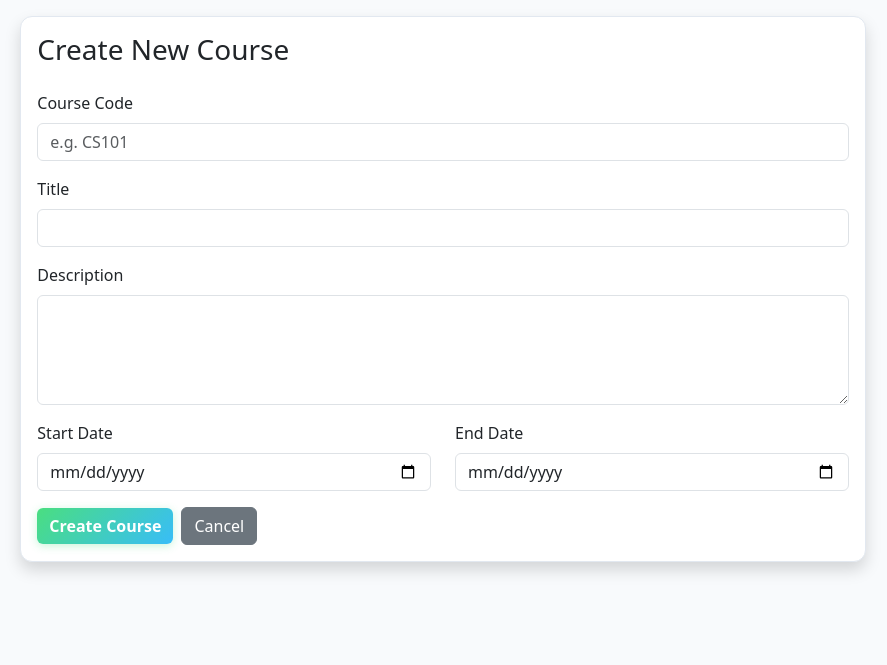
CourseCreate › shows error on failure
Type "CS101" into the field with placeholder "e.g. CS101" at [443, 142], box [37,123,849,161]
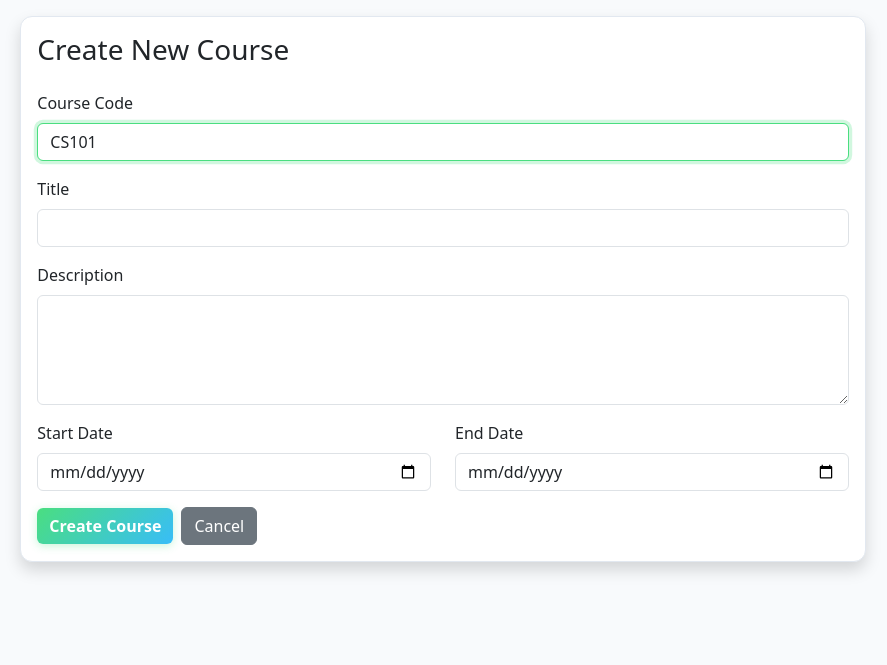
Type "Dup" into the field below "Title" at [443, 228], box [37,209,849,247]
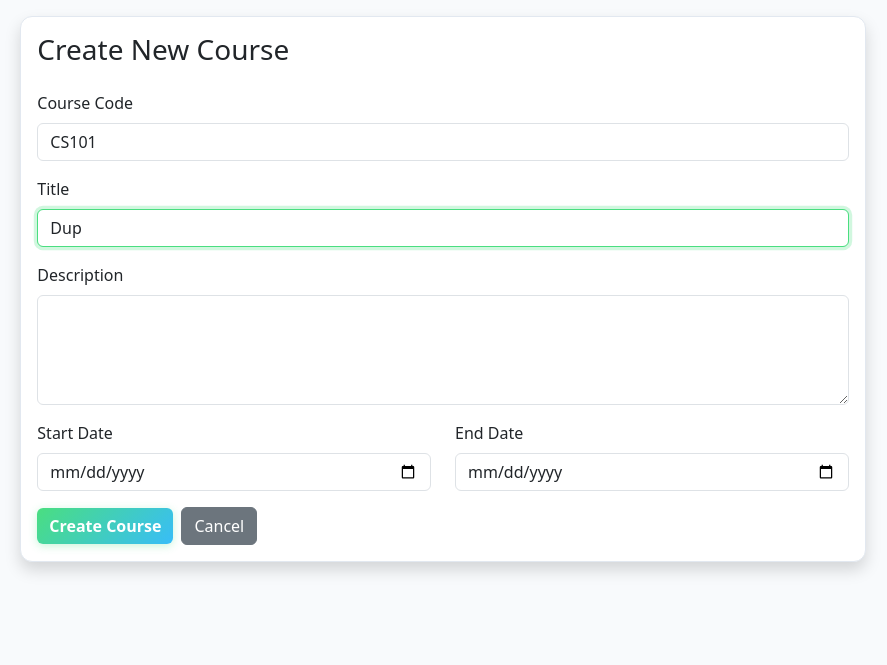
Type "Desc" into the text box at [443, 350], box [37,295,849,405]
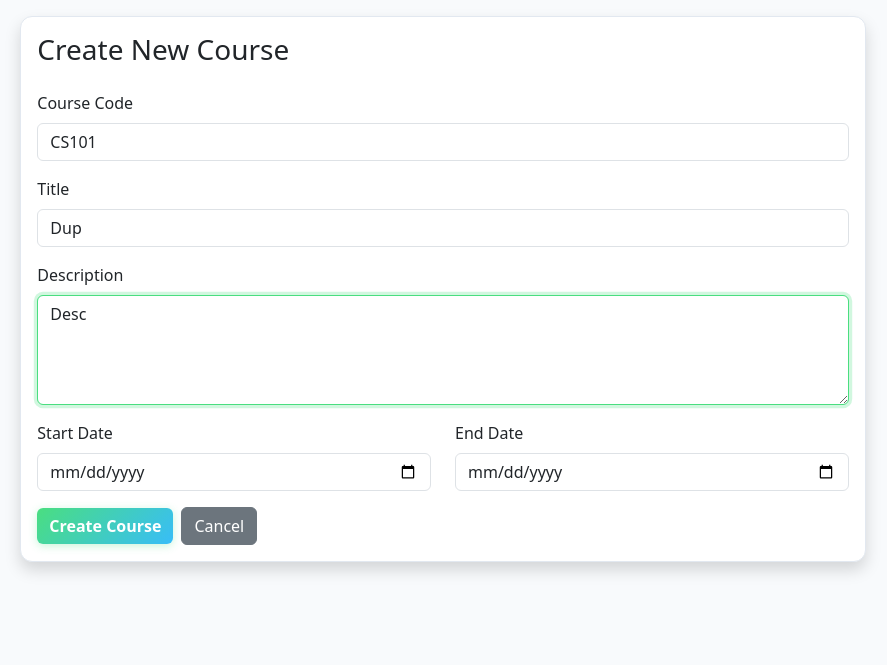
Click the button "Create Course" at [105, 526], box [37,508,173,544]
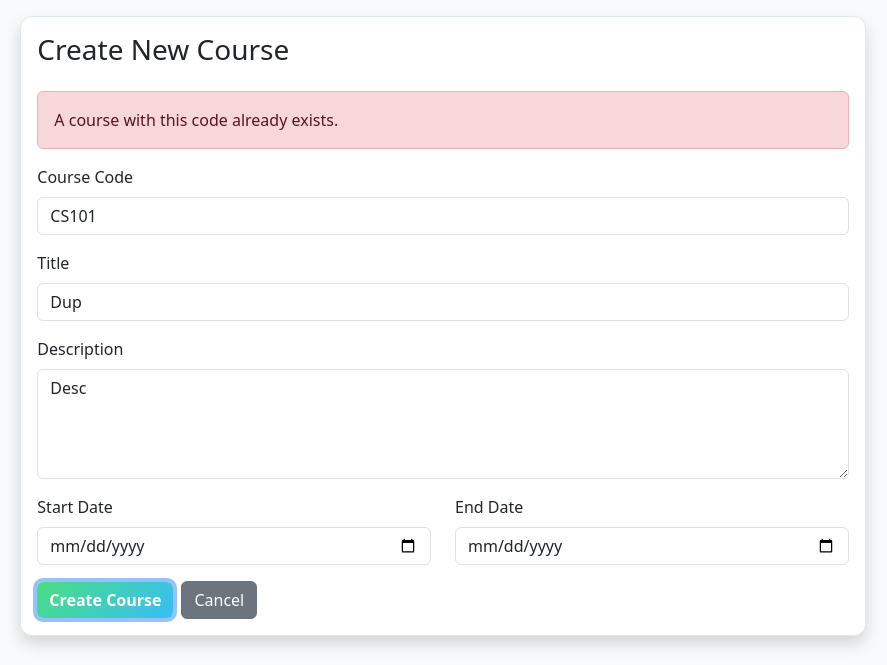
Now the text "A course with this code already exists." is shown, box [37,91,849,149]
